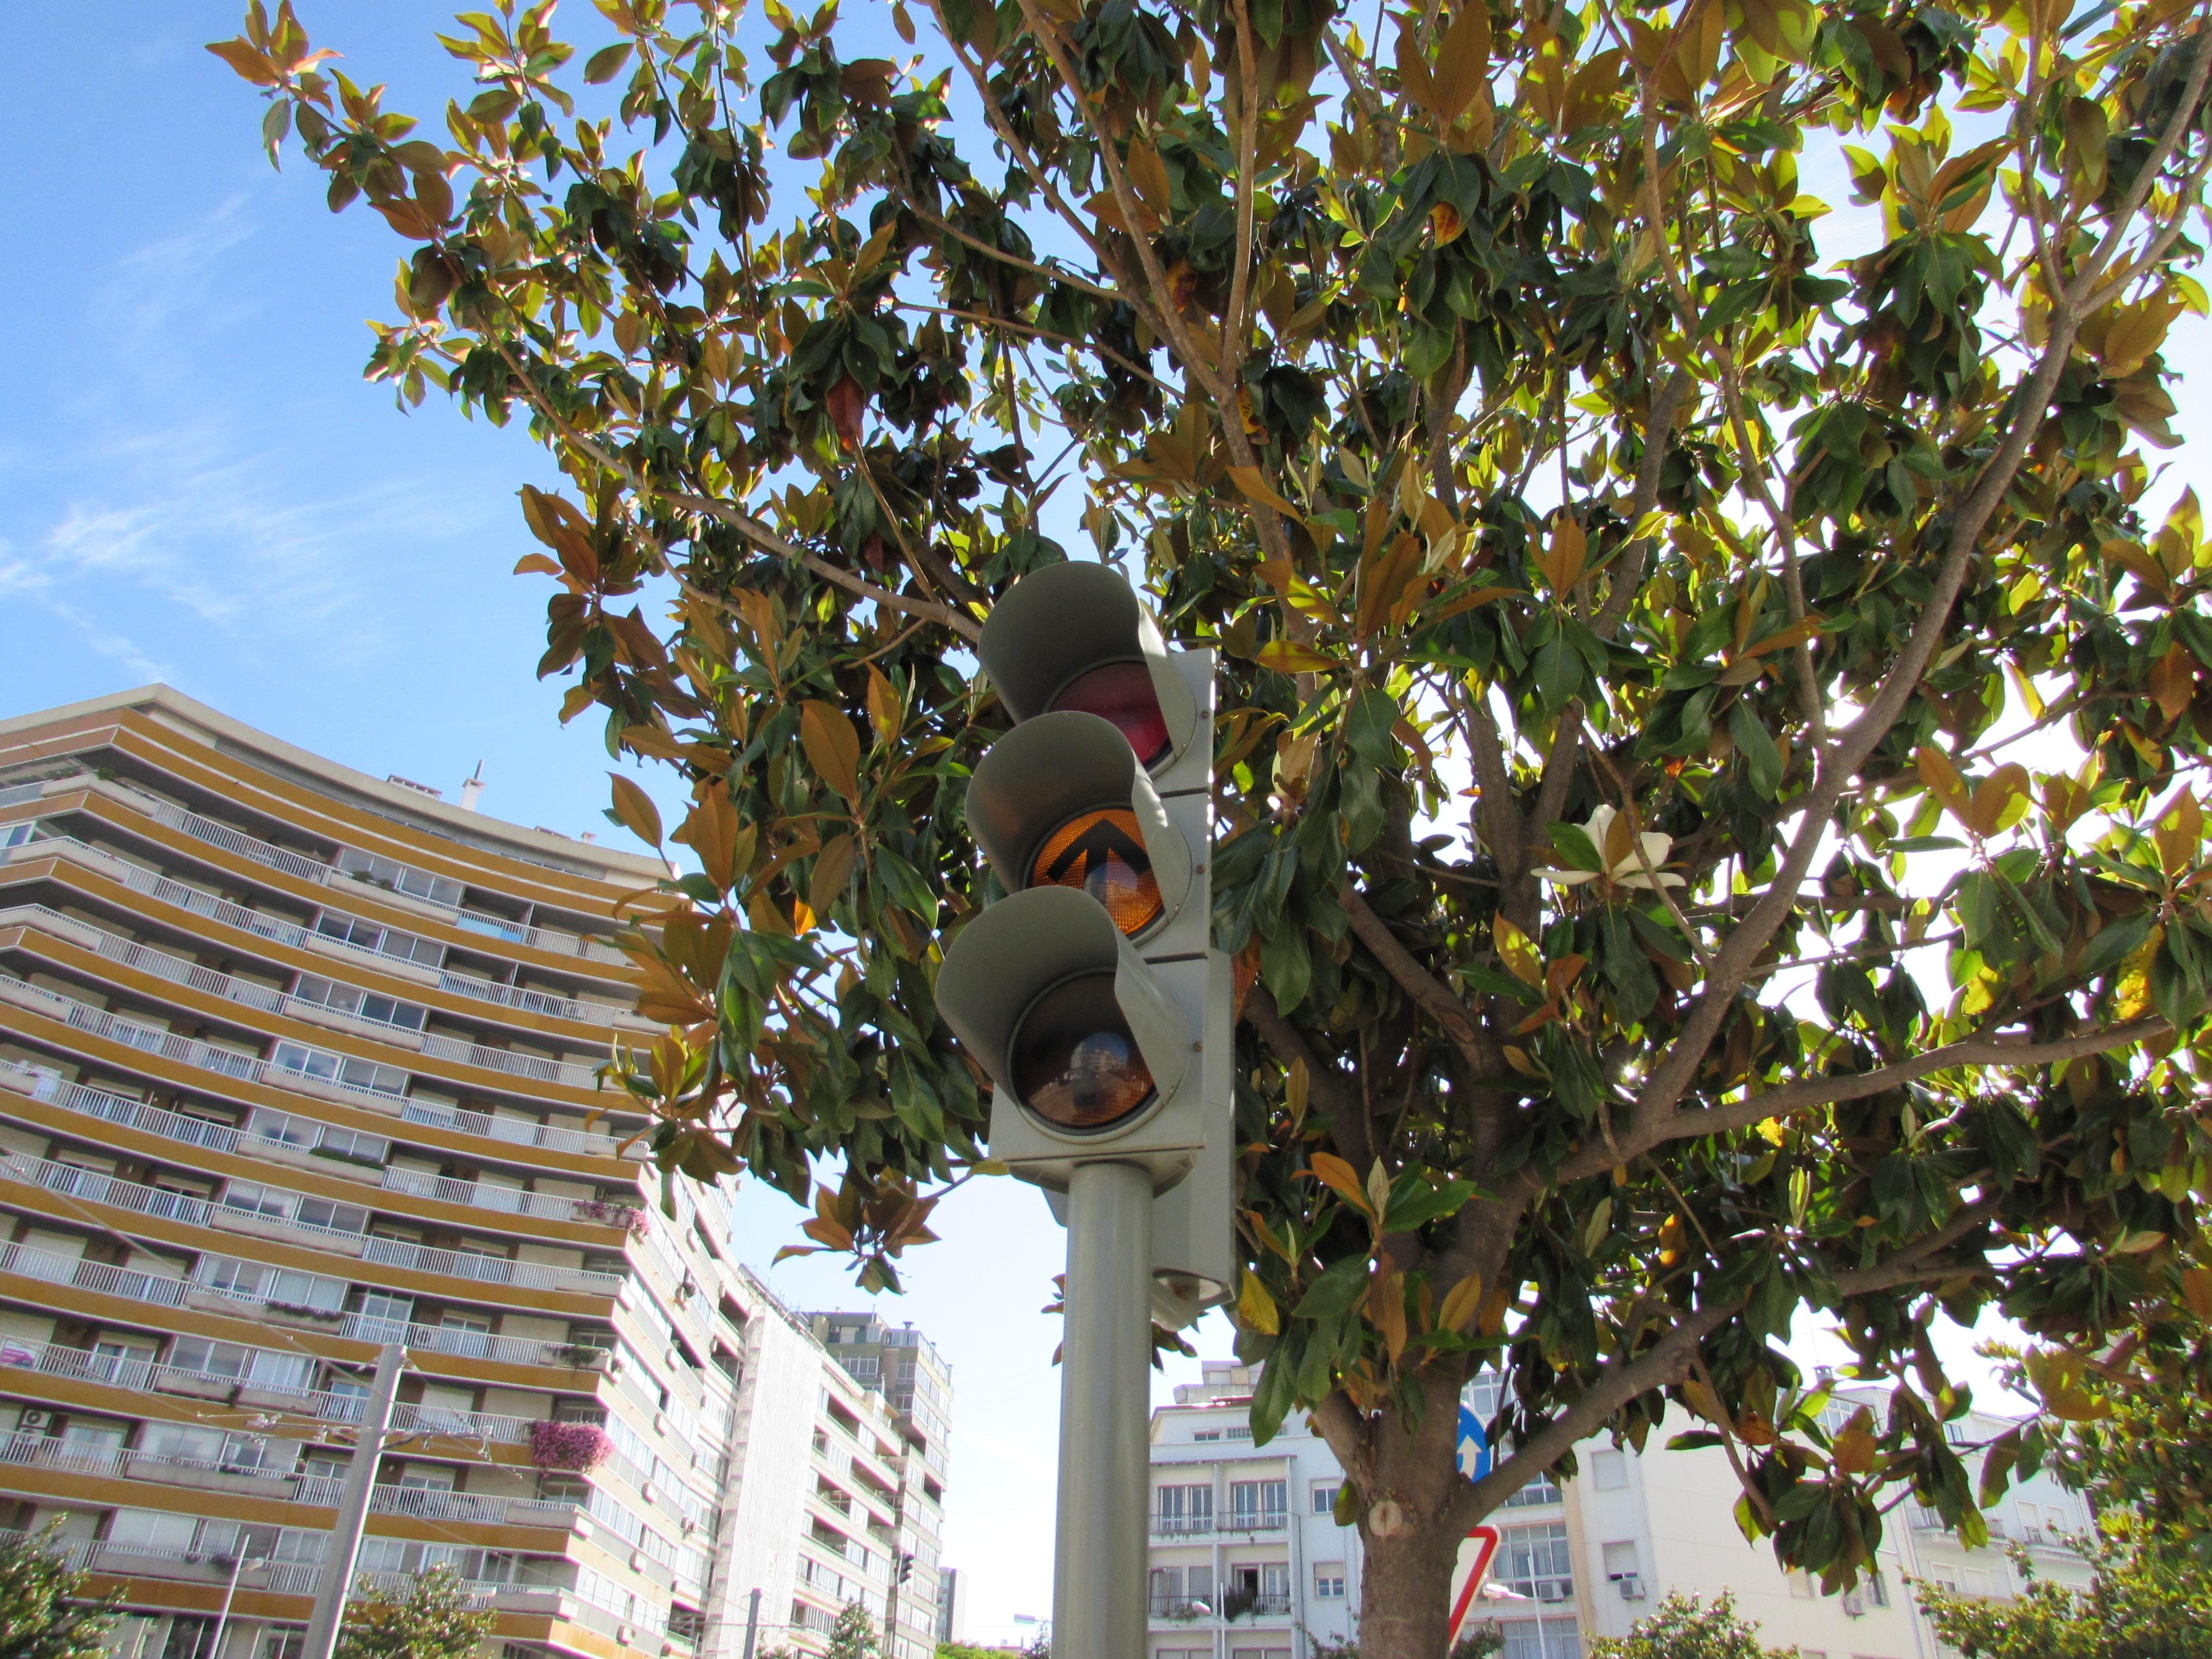yellow_light: (935, 559, 1216, 1162)
